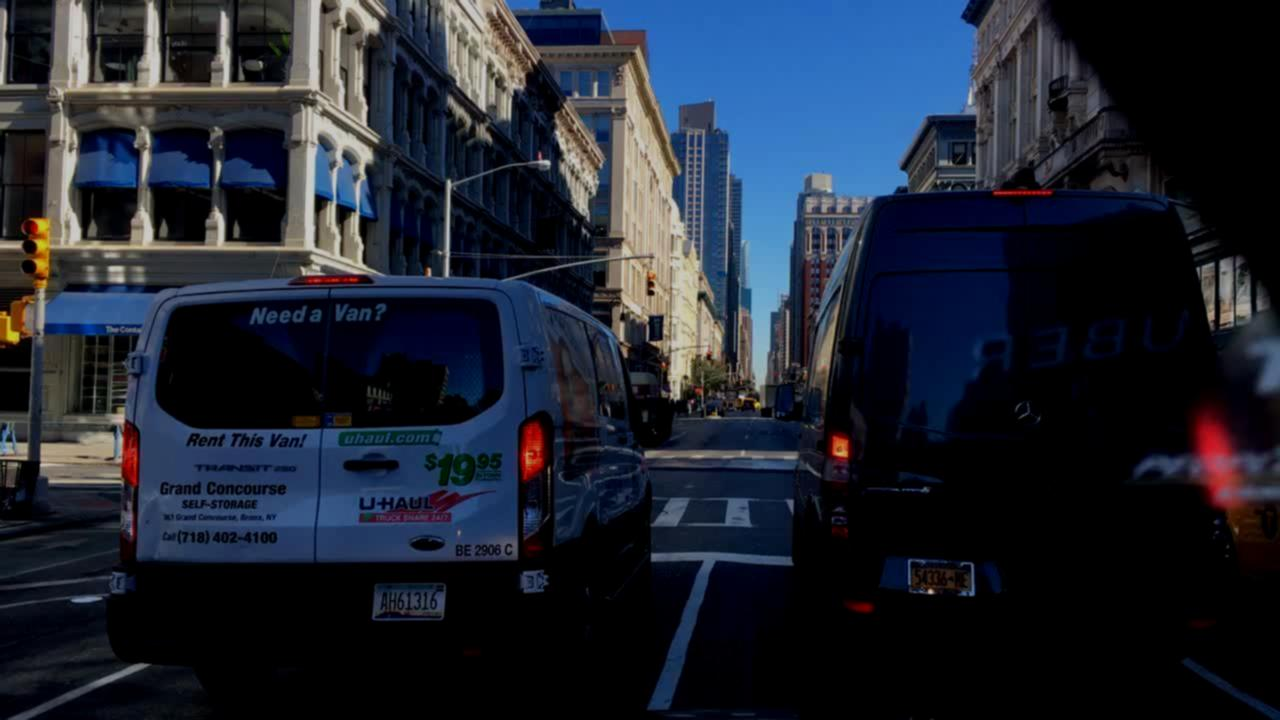Mercedes: (1010, 396, 1046, 432)
